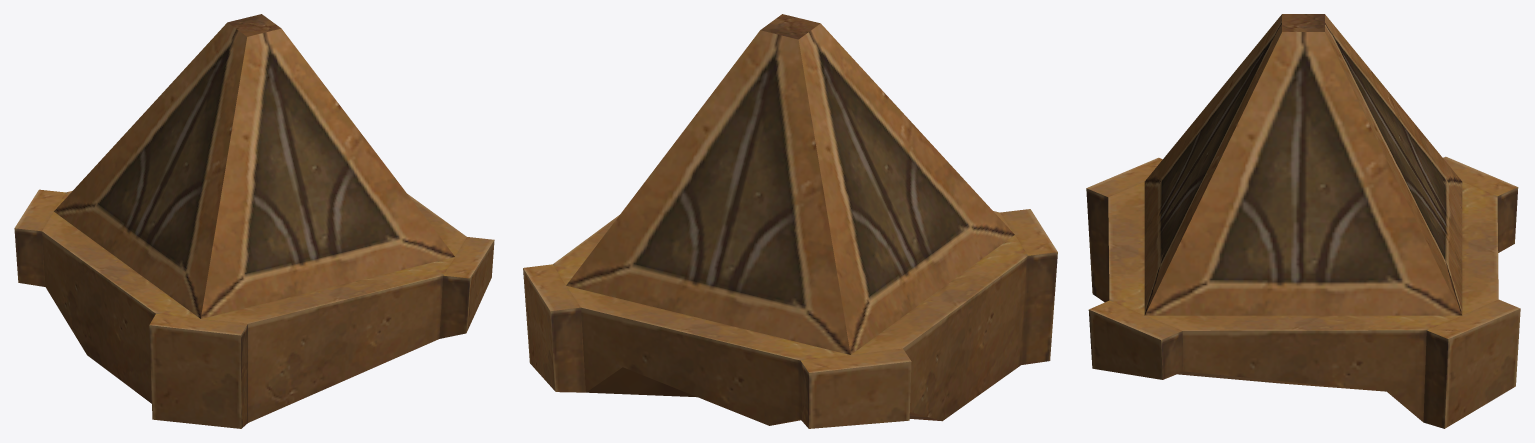
The model's file is shakian_object_etc_a.FBX.
3 renders of one model, left to right at view 1: azimuth 30°, elevation 25°; view 2: azimuth 150°, elevation 25°; view 3: azimuth 270°, elevation 25°, orthographic. The views are drawn at different scales.
Parts seen in each view (by area): view 1: shakian_object_etc_a; view 2: shakian_object_etc_a; view 3: shakian_object_etc_a.
Boxes of the visible parts, x1,y1,x2,y2 form: shakian_object_etc_a: [14, 14, 494, 428]; shakian_object_etc_a: [523, 14, 1057, 428]; shakian_object_etc_a: [1086, 14, 1520, 428].
Size of the model in its own units: 1.76 by 1.55 by 1.76.
